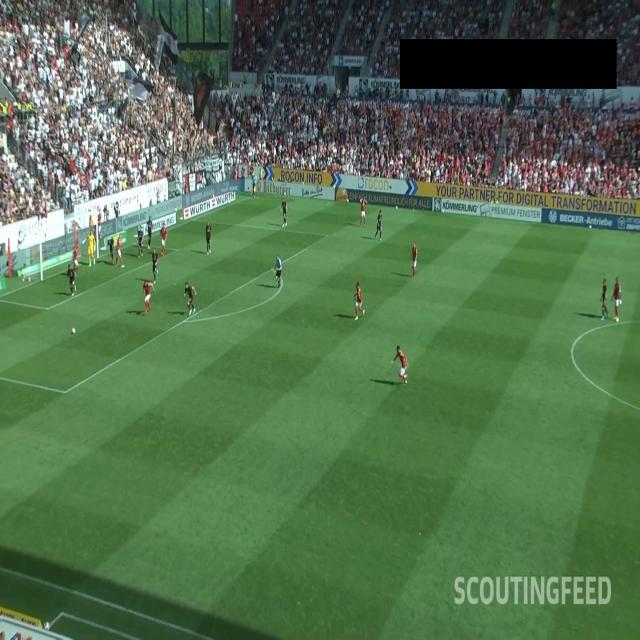ball: (72, 327, 75, 333)
